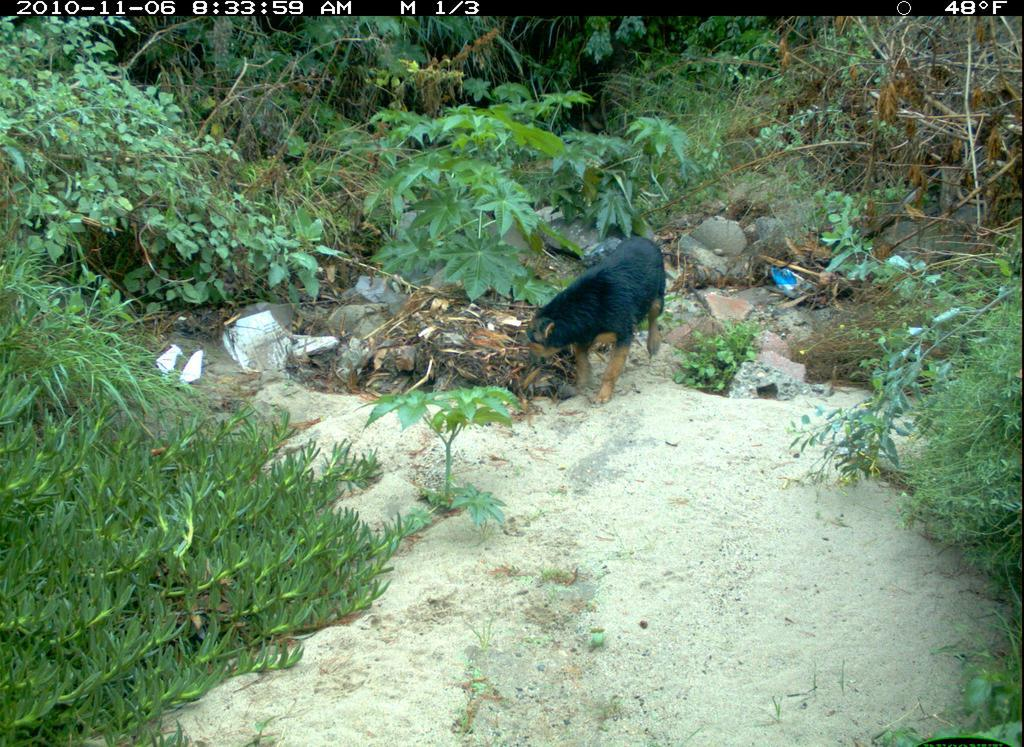dog: (498, 218, 679, 423)
